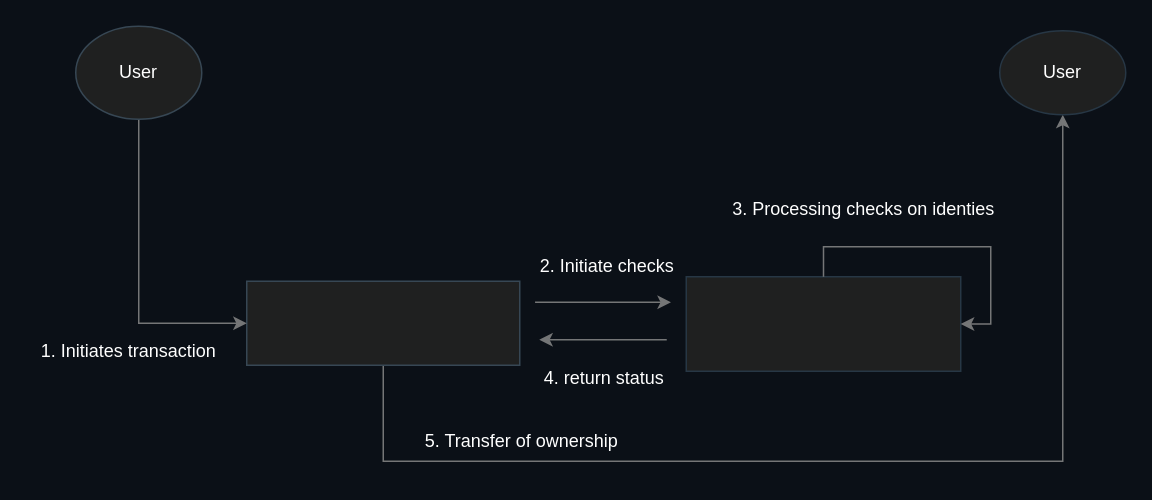
Image size: 1152x500. Some labels were removed from this diagram. The shapes that lost their labels are listed below. From the top down, each one's centre as x and y in pixels, then its label:
At point (382, 322): "GELT underlying ERC3643".
At point (823, 323): "Validator".
